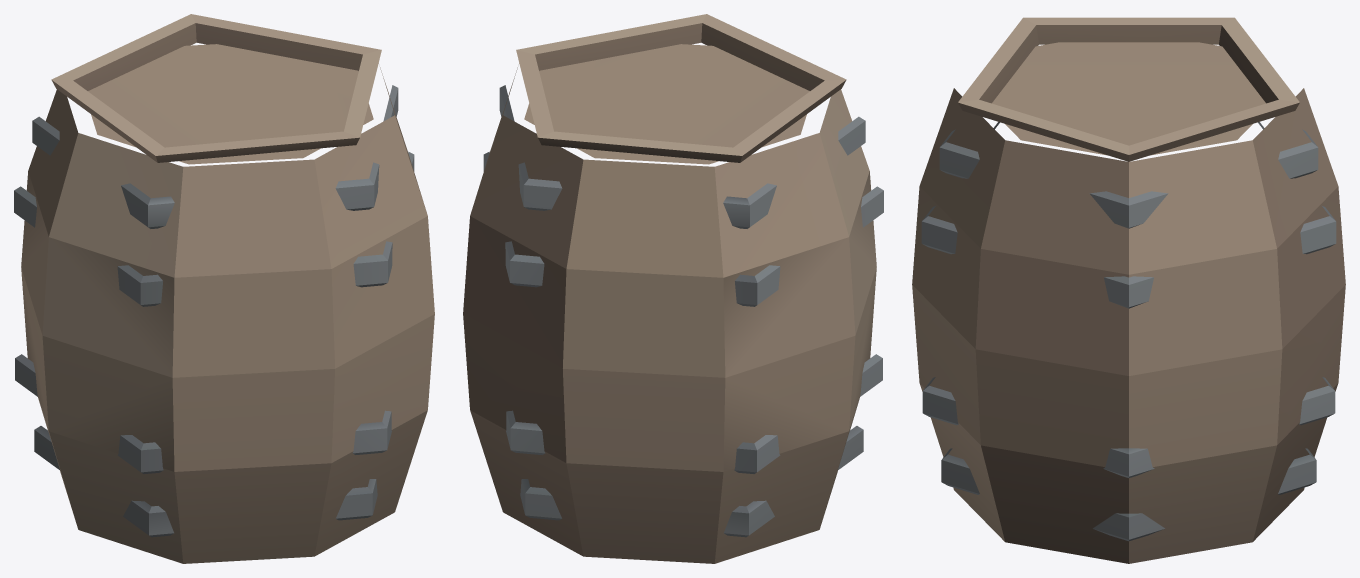
Rendered from barrel.lod1.glb.
The picture shows the model from 3 angles, left to right: view 1: azimuth 30°, elevation 25°; view 2: azimuth 150°, elevation 25°; view 3: azimuth 270°, elevation 25°; orthographic projection.
Size of the model in its own units: 0.882 by 0.92 by 0.88.
